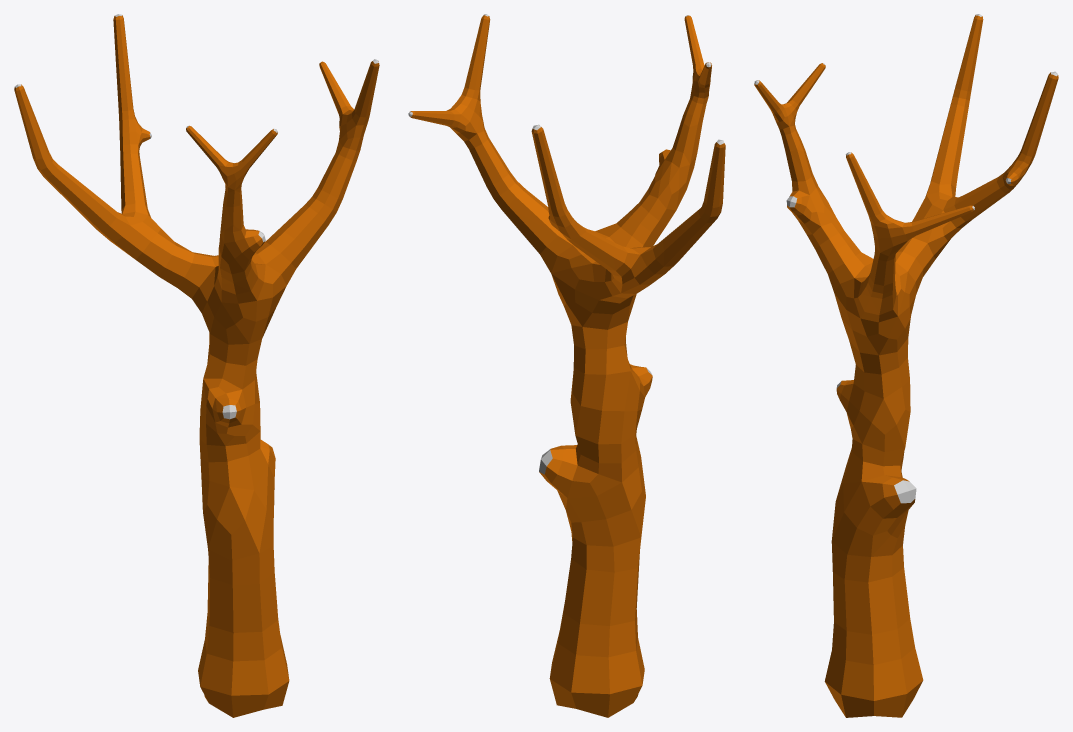
File: DeadTree04.fbx
3 renders of one model, left to right at view 1: azimuth 30°, elevation 25°; view 2: azimuth 150°, elevation 25°; view 3: azimuth 270°, elevation 25°, orthographic. The views are drawn at different scales.
Visible parts, largest first — view 1: Plane; view 2: Plane; view 3: Plane.
Boxes of the visible parts, left/top/right/bottom form: Plane: left=14, top=14, right=379, bottom=717; Plane: left=408, top=14, right=725, bottom=717; Plane: left=754, top=14, right=1058, bottom=717.
Bounding box in the file's own units: 234 × 464 × 204.
